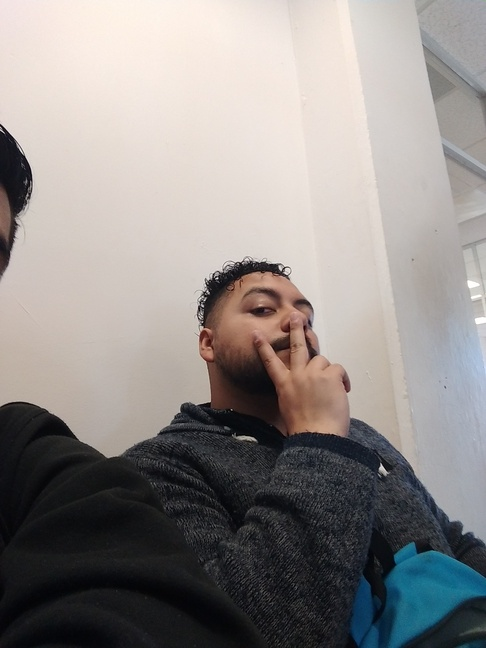Yoshi: (171, 232, 362, 427)
